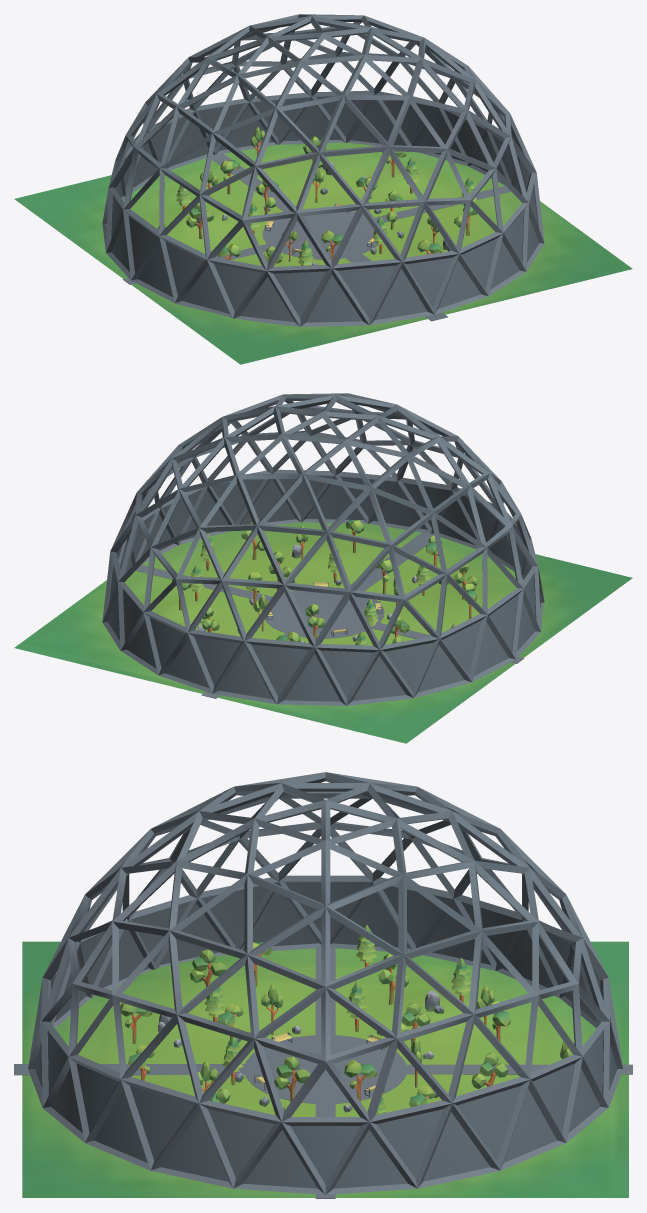
The model's file is ParkModel01_Alisson3d (1).fbx.
3 views of the same model, one above another, from view 1: azimuth 30°, elevation 25°; view 2: azimuth 150°, elevation 25°; view 3: azimuth 270°, elevation 25° (orthographic). The views are drawn at different scales.
Visible parts, largest first — view 1: CUPULA_LP, PLANE_LP, Circle; view 2: CUPULA_LP, PLANE_LP, Circle; view 3: CUPULA_LP, PLANE_LP, Circle, TREE01_LP.001, TREE01_LP.002, TREE01_LP.005, THREE03_LP.
Part boxes in pixels (<box>): CUPULA_LP: <box>102,14,544,326</box>; PLANE_LP: <box>14,142,632,364</box>; Circle: <box>122,153,510,321</box>; CUPULA_LP: <box>102,393,544,705</box>; PLANE_LP: <box>14,522,632,743</box>; Circle: <box>136,532,524,698</box>; CUPULA_LP: <box>28,772,623,1194</box>; PLANE_LP: <box>22,941,628,1197</box>; Circle: <box>14,947,632,1198</box>; TREE01_LP.001: <box>274,1056,309,1102</box>; TREE01_LP.002: <box>190,949,226,999</box>; TREE01_LP.005: <box>471,1053,508,1088</box>; THREE03_LP: <box>344,1060,376,1102</box>.
Bounding box in the file's own units: 12744 × 6301 × 12932.
